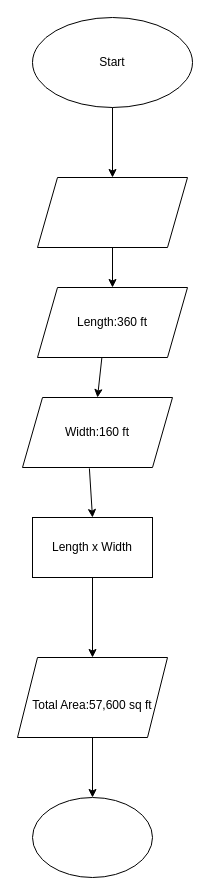
Image size: 210x895. Some labels were removed from this diagram. Here are the shapes that lost their labels. From the top down, the centre of each, then its label:
At point 112,212: "American Football".
At point 92,837: "End".
